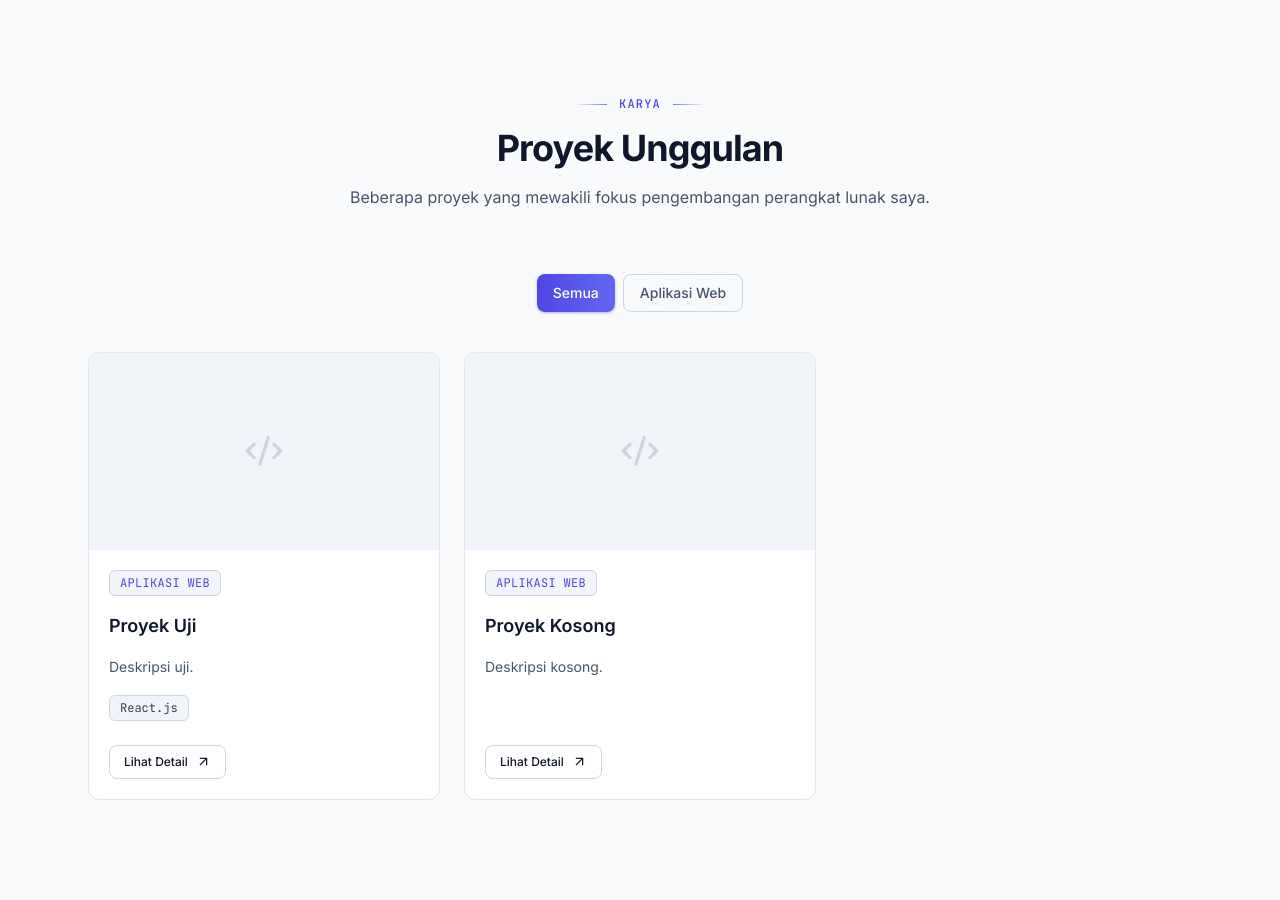
Projects — modal detail: tautan & placeholder › menampilkan placeholder jujur untuk proyek yang belum terisi
Click the button "Lihat Detail" below "Deskripsi kosong." at x=543, y=762, box x1=485 y1=745 x2=602 y2=779
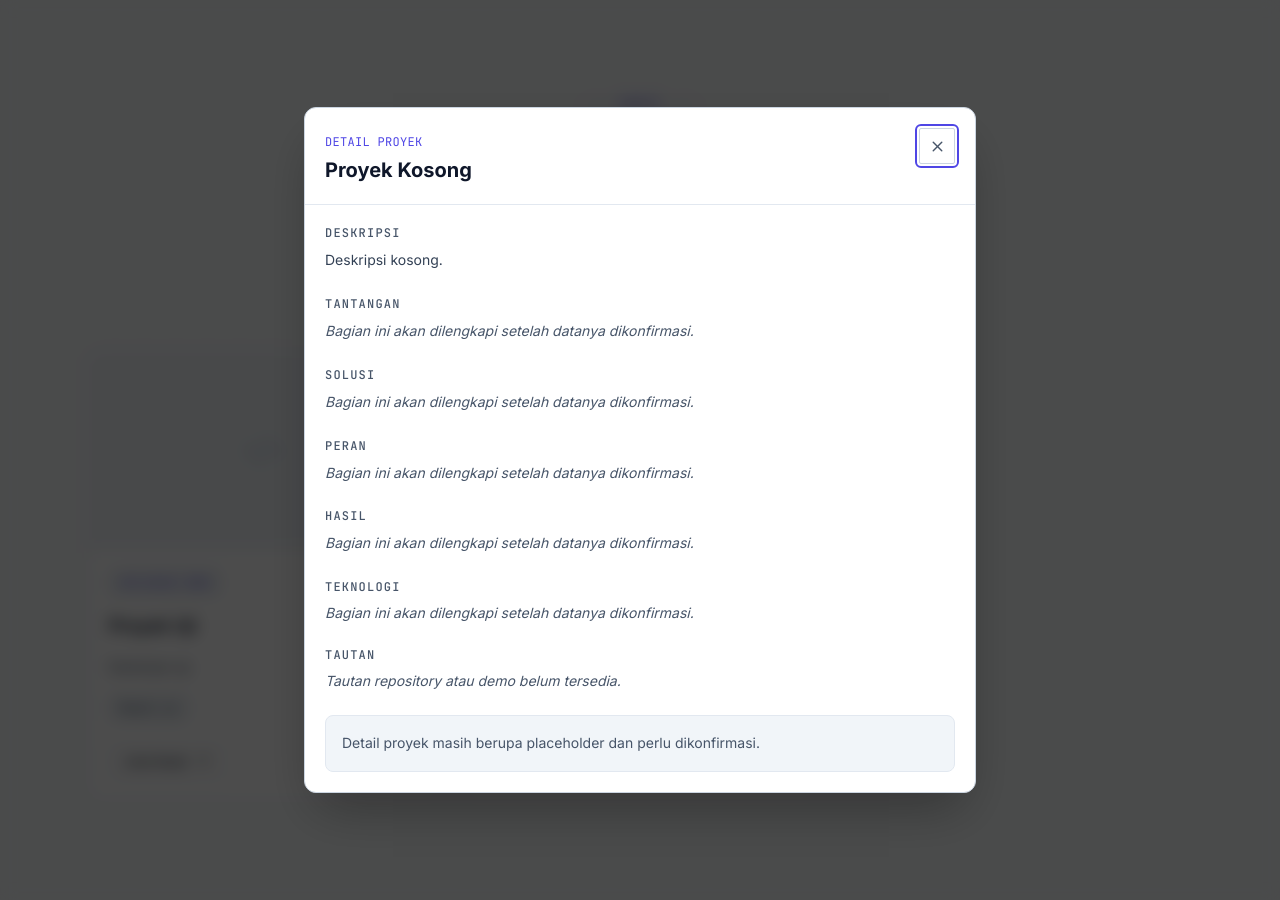
Check: the text "Bagian ini akan dilengkapi setelah datanya dikonfirmasi." below "Tantangan" is shown, box x1=325 y1=322 x2=694 y2=339
Check: the text "masih berupa placeholder" is shown, box x1=342 y1=734 x2=760 y2=751
Check: the text "Tautan repository atau demo belum tersedia." is shown, box x1=325 y1=672 x2=621 y2=689
